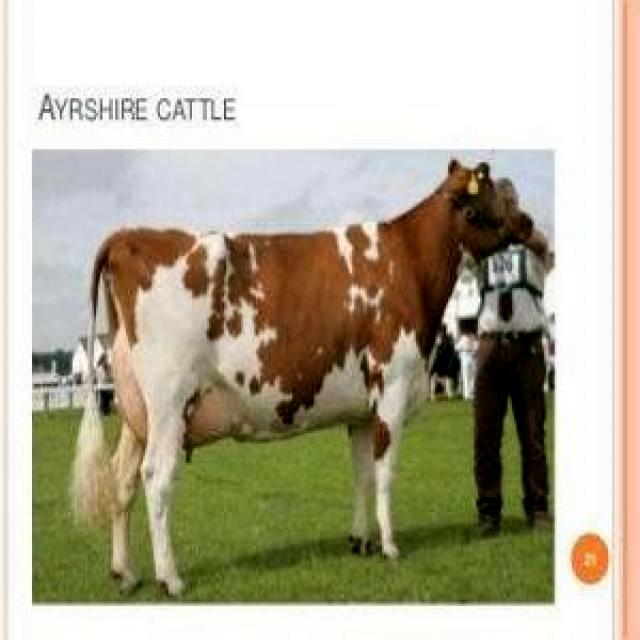COW: (74, 161, 532, 594)
